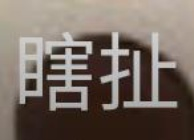TextView: (1, 1, 193, 139)
